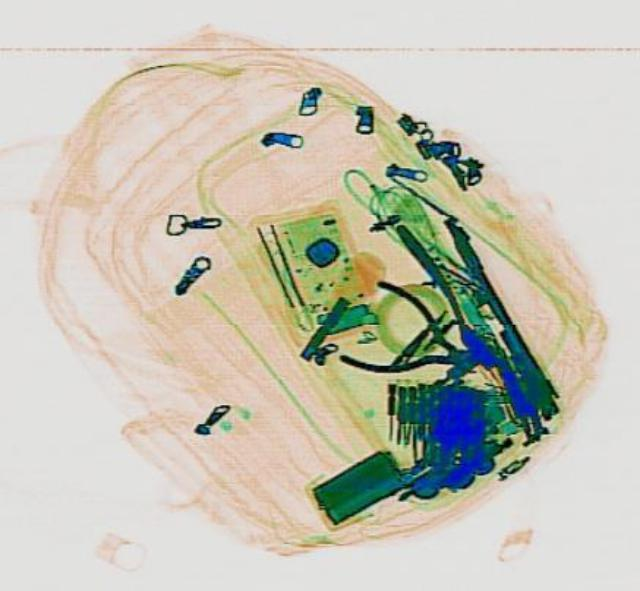Pliers: (332, 277, 502, 404)
